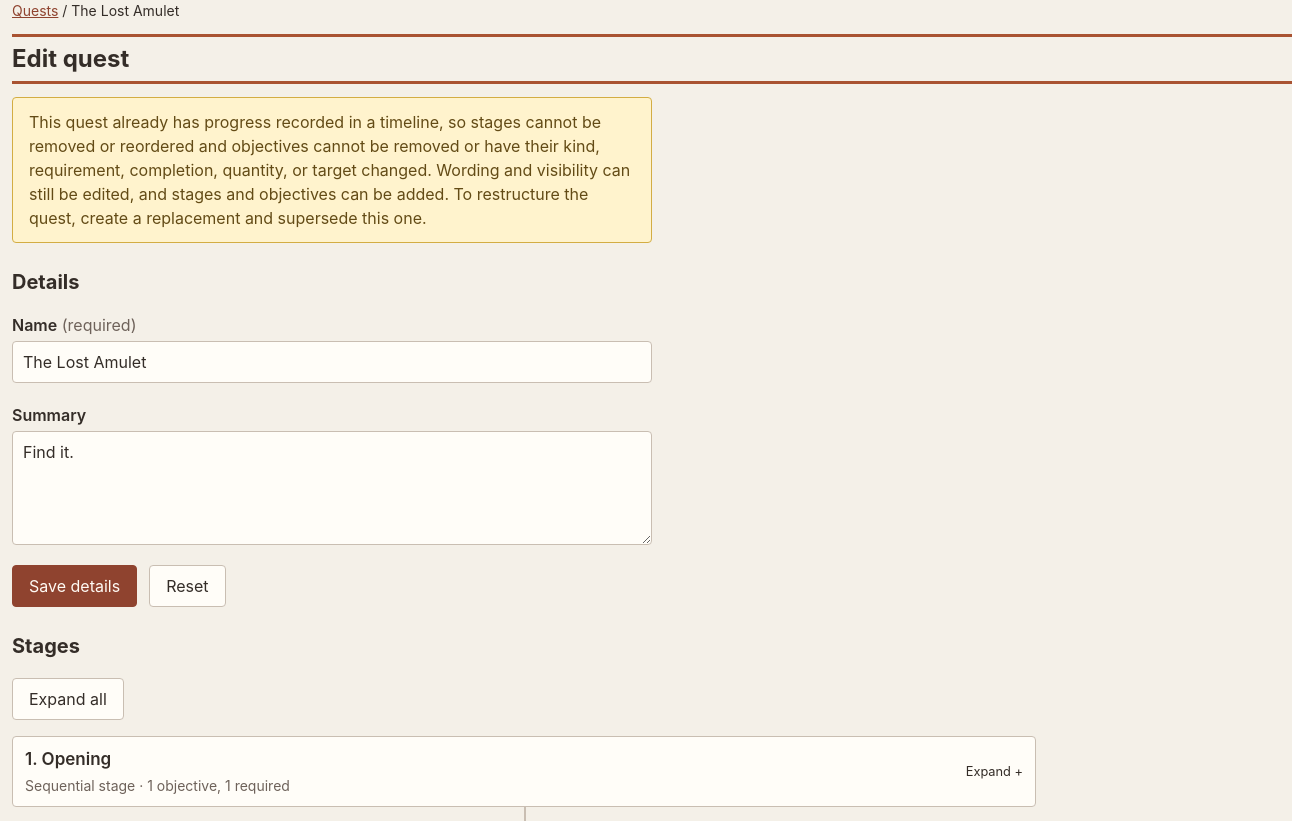
Test: EditQuestPage › shows progress-locked structure: no removal or reorder, disabled structural fields, a reason
This screenshot has width=1292, height=821.
Click the button "Expand all". click: (68, 699)
box: [12,678,124,720]
(page scrolled)
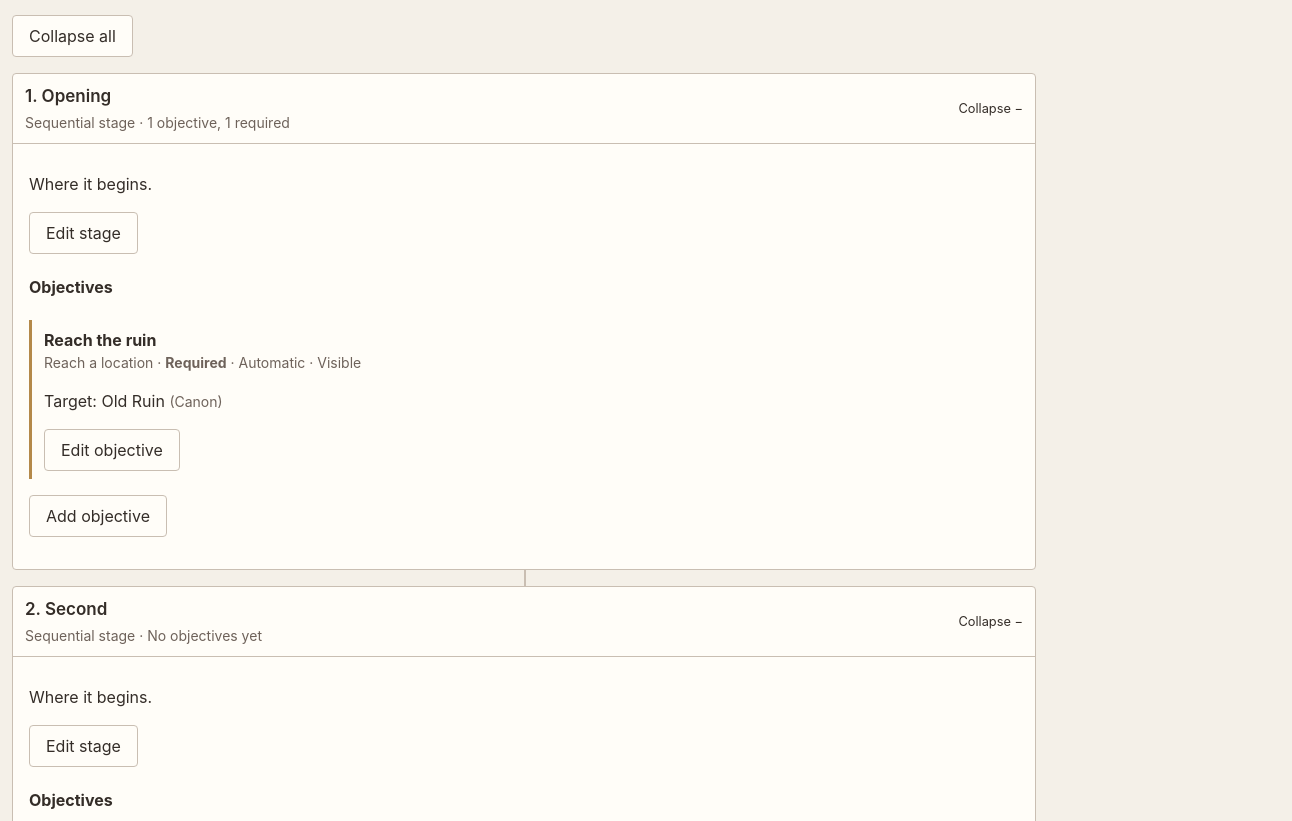
Click the button with aria-label "Edit objective Reach the ruin". click: (112, 450)
box: [44,429,180,471]
(page scrolled)
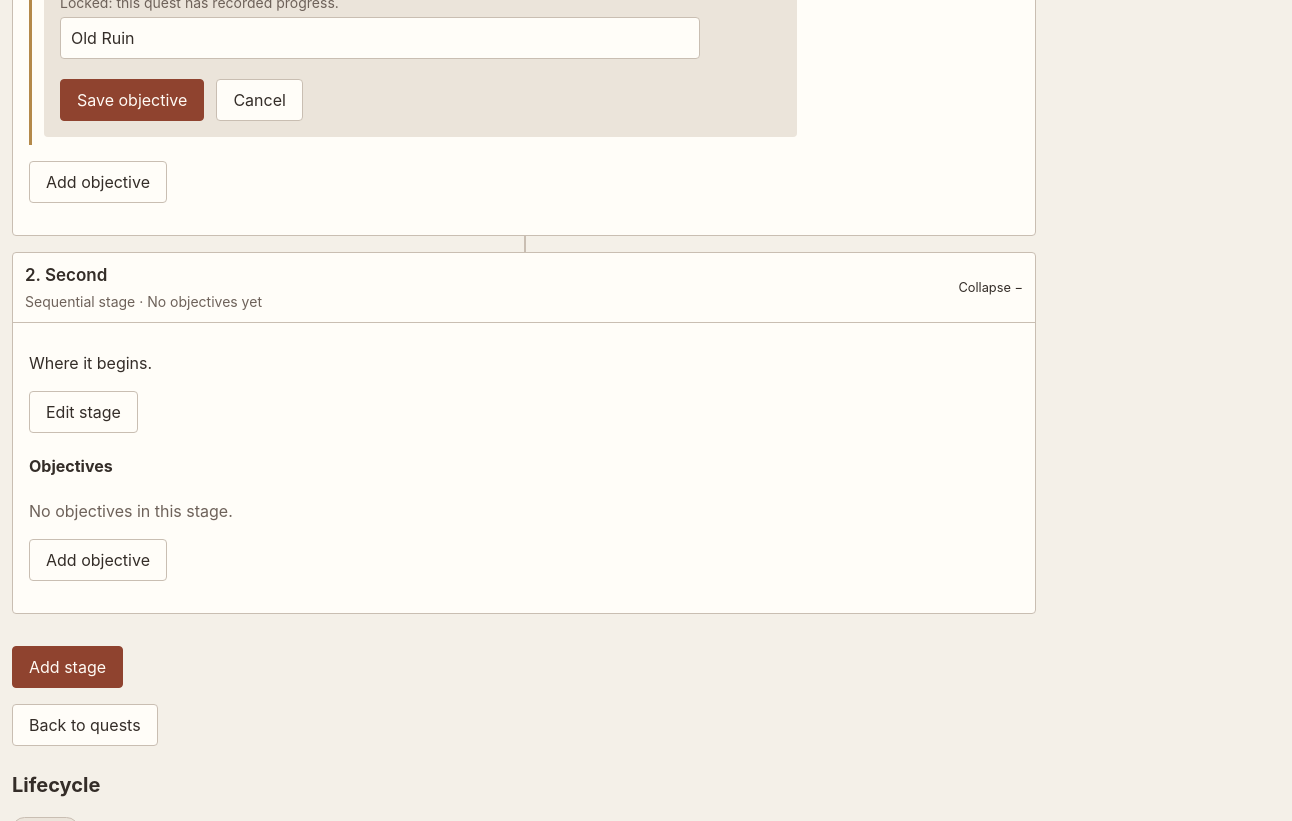
Expected: the button "Add stage" is shown, [12,646,123,688]
Result: the dropdown labelled "Target" is disabled at [60,17,700,59]
